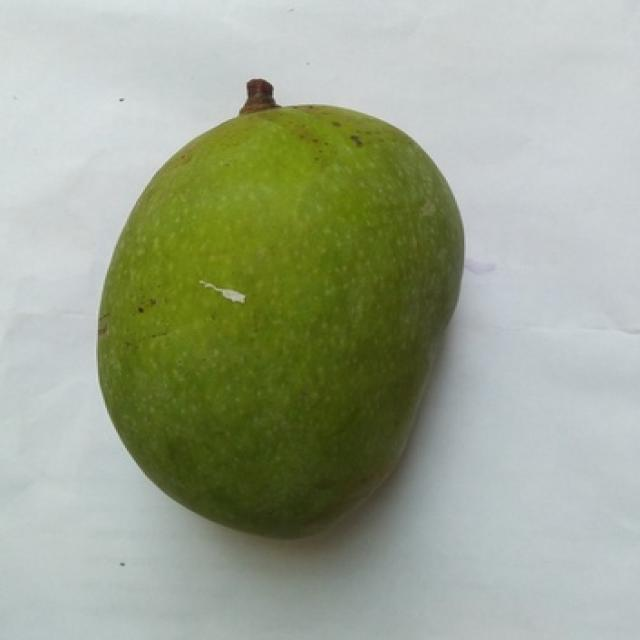Mango: (100, 106, 462, 534)
